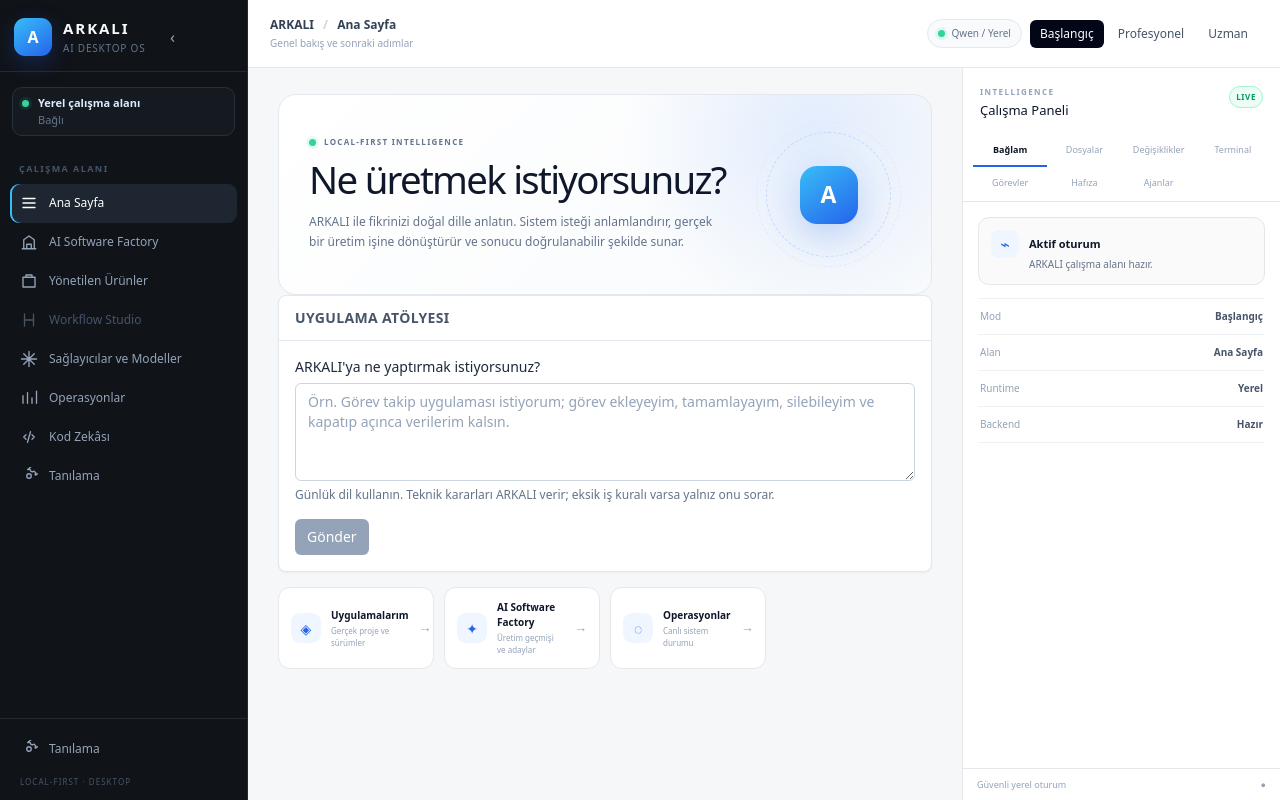
Code Intelligence page › is no longer "Yakında" and is reachable from the sidebar
The width and height of the screenshot is (1280, 800).
Click the button "Kod Zekâsı" at (124, 437), box [10,418,237,456]
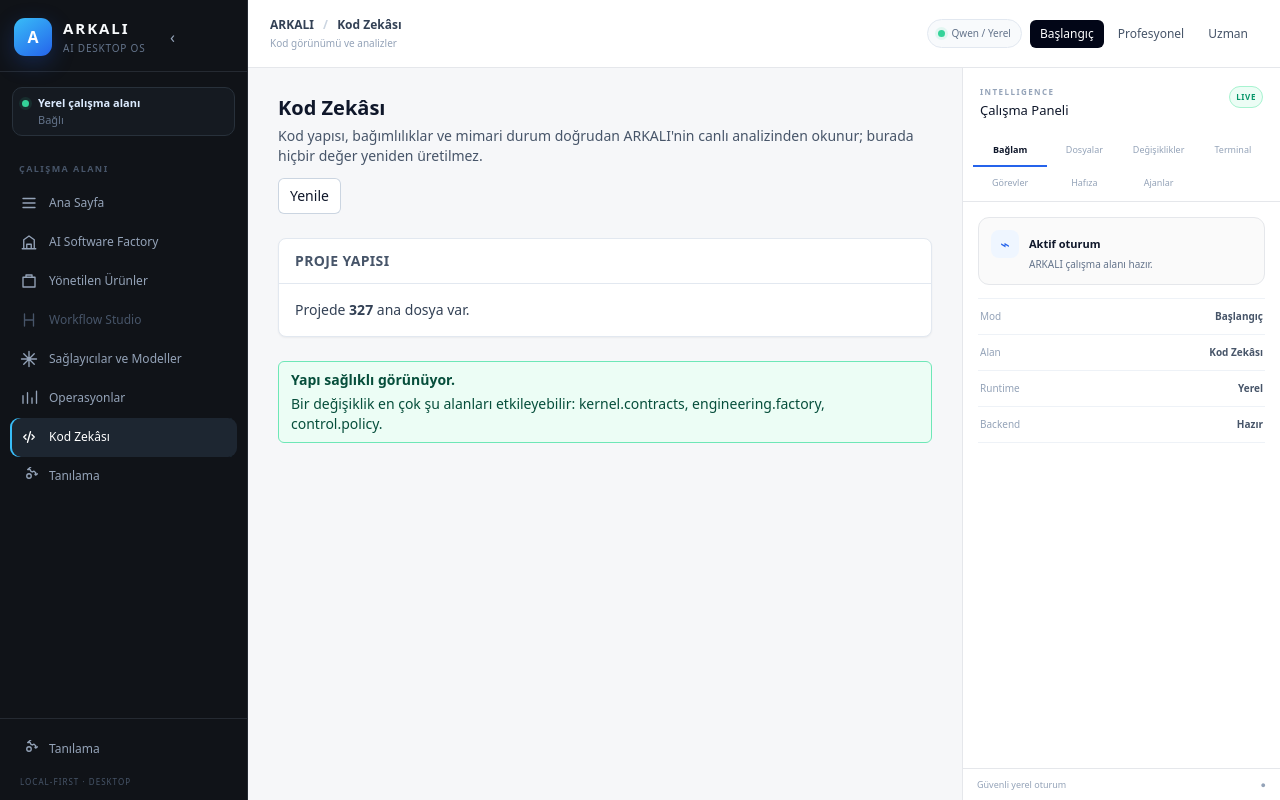
Now the heading "Kod Zekâsı" is shown, box [278,94,386,121]
